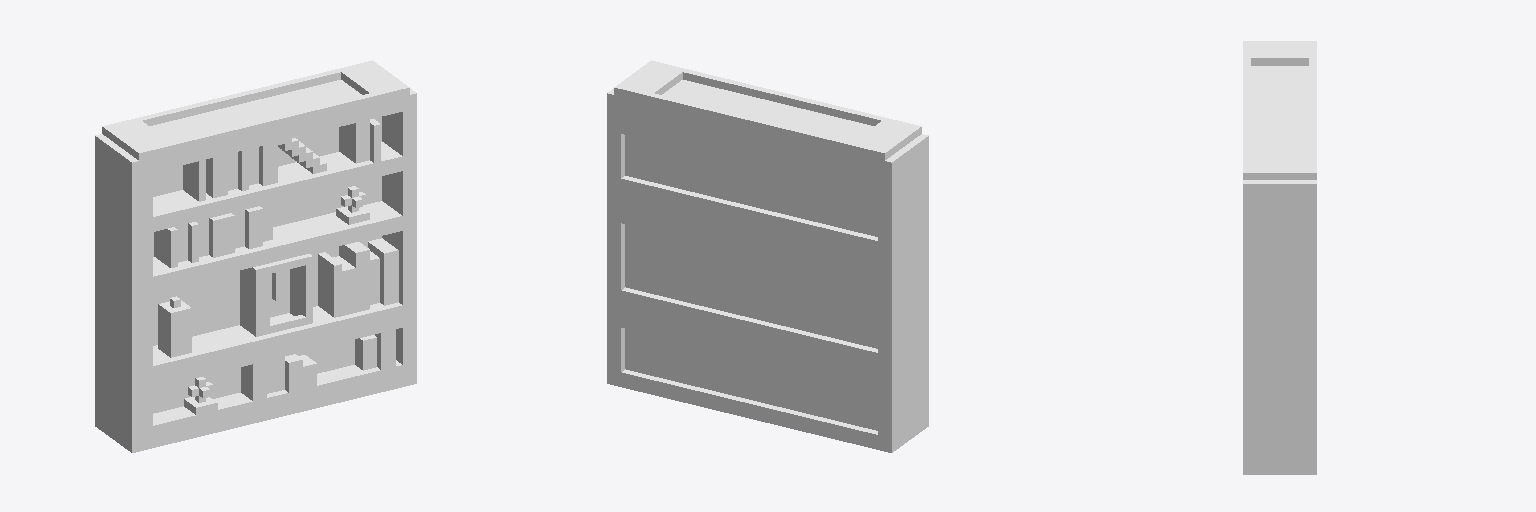
The model's file is library.obj.
3 views of the same model, side by side, from view 1: azimuth 30°, elevation 25°; view 2: azimuth 150°, elevation 25°; view 3: azimuth 270°, elevation 25° (orthographic).
Parts seen in each view (by area): view 1: library; view 2: library; view 3: library.
Boxes of the visible parts, box(x1,y1,x2,y2) form: library: box(95, 60, 416, 452); library: box(607, 60, 928, 452); library: box(1243, 41, 1316, 474).
Bounding box in the file's own units: 40 × 40 × 9.